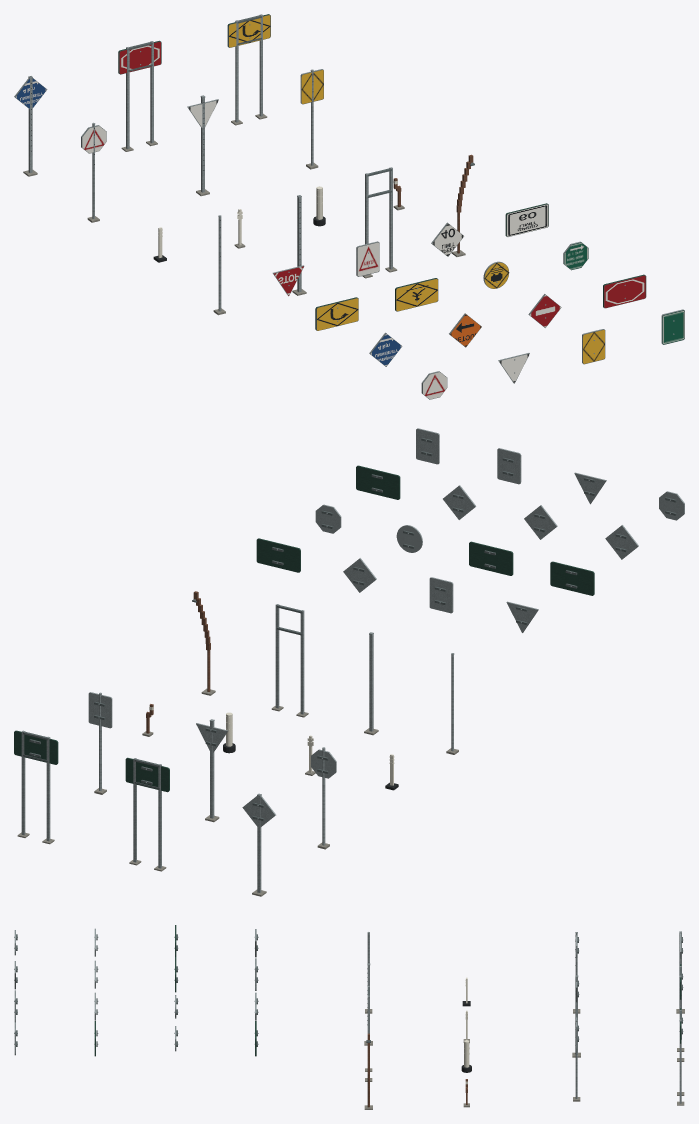
Rendered from PROJECT_Z_Road_Signs_and_Markers_Kit.glb.
3 renders of one model, top to bottom at view 1: azimuth 30°, elevation 25°; view 2: azimuth 150°, elevation 25°; view 3: azimuth 270°, elevation 25°, orthographic. The views are drawn at different scales.
Visible parts, largest first — view 1: PART_SIGNHEAD_NORTH_CAIRN_DIRECTION__FacePanel_SWAP_NORTH_CA, PART_SIGNHEAD_RAVENBROOK_UNIVERSITY__FacePanel_SWAP_RAVENBRO, PART_SIGNHEAD_BLANK_DIRECTION__FacePanel_SWAP_BLANK_DIRECTIO, PART_SIGNHEAD_DETOUR_LEFT__FacePanel_SWAP_DETOUR_LEFT, PART_ASSEMBLED_RAVENBROOK_UNIVERSITY__HEAD_FacePanel_SWAP_RA, PART_ASSEMBLED_NORTH_CAIRN_DIRECTION__HEAD_FacePanel_SWAP_NO, PART_ASSEMBLED_NORTH_CAIRN_DIRECTION__POST_StructuralPost, PART_ASSEMBLED_RAVENBROOK_UNIVERSITY__POST_StructuralPost, PART_SIGNHEAD_BLANK_SPEED__FacePanel_SWAP_BLANK_SPEED, PART_POST_TWIN_DIRECTION__StructuralPost, PART_SIGNHEAD_SPEED_60__FacePanel_SWAP_SPEED_60, PART_SIGNHEAD_SPEED_40__FacePanel_SWAP_SPEED_40 (+1 smaller); view 2: PART_SIGNHEAD_RAVENBROOK_UNIVERSITY__BackPlate_WIDE, PART_SIGNHEAD_BLANK_DIRECTION__BackPlate_WIDE, PART_SIGNHEAD_NORTH_CAIRN_DIRECTION__BackPlate_WIDE, PART_SIGNHEAD_DETOUR_LEFT__BackPlate_WIDE, PART_POST_TWIN_DIRECTION__StructuralPost, PART_ASSEMBLED_RAVENBROOK_UNIVERSITY__POST_StructuralPost, PART_ASSEMBLED_RAVENBROOK_UNIVERSITY__HEAD_BackPlate_WIDE, PART_ASSEMBLED_NORTH_CAIRN_DIRECTION__HEAD_BackPlate_WIDE, PART_ASSEMBLED_NORTH_CAIRN_DIRECTION__POST_StructuralPost, PART_SIGNHEAD_BLANK_SPEED__BackPlate_RECTANGLE, PART_SIGNHEAD_SPEED_40__BackPlate_RECTANGLE, PART_SIGNHEAD_SPEED_60__BackPlate_RECTANGLE (+1 smaller); view 3: no part large enough to name.
Part boxes in pixels (<box>): PART_SIGNHEAD_NORTH_CAIRN_DIRECTION__FacePanel_SWAP_NORTH_CA: <box>604,275,645,307</box>; PART_SIGNHEAD_RAVENBROOK_UNIVERSITY__FacePanel_SWAP_RAVENBRO: <box>317,298,358,330</box>; PART_SIGNHEAD_BLANK_DIRECTION__FacePanel_SWAP_BLANK_DIRECTIO: <box>507,204,548,236</box>; PART_SIGNHEAD_DETOUR_LEFT__FacePanel_SWAP_DETOUR_LEFT: <box>396,279,437,311</box>; PART_ASSEMBLED_RAVENBROOK_UNIVERSITY__HEAD_FacePanel_SWAP_RA: <box>229,15,270,47</box>; PART_ASSEMBLED_NORTH_CAIRN_DIRECTION__HEAD_FacePanel_SWAP_NO: <box>119,42,160,73</box>; PART_ASSEMBLED_NORTH_CAIRN_DIRECTION__POST_StructuralPost: <box>126,41,153,148</box>; PART_ASSEMBLED_RAVENBROOK_UNIVERSITY__POST_StructuralPost: <box>235,14,262,122</box>; PART_SIGNHEAD_BLANK_SPEED__FacePanel_SWAP_BLANK_SPEED: <box>357,242,379,276</box>; PART_POST_TWIN_DIRECTION__StructuralPost: <box>365,167,392,275</box>; PART_SIGNHEAD_SPEED_60__FacePanel_SWAP_SPEED_60: <box>662,310,684,344</box>; PART_SIGNHEAD_SPEED_40__FacePanel_SWAP_SPEED_40: <box>583,330,604,363</box>; PART_SIGNHEAD_RAVENBROOK_UNIVERSITY__BackPlate_WIDE: <box>550,561,594,595</box>; PART_SIGNHEAD_BLANK_DIRECTION__BackPlate_WIDE: <box>256,538,300,572</box>; PART_SIGNHEAD_NORTH_CAIRN_DIRECTION__BackPlate_WIDE: <box>356,465,400,499</box>; PART_SIGNHEAD_DETOUR_LEFT__BackPlate_WIDE: <box>469,541,513,575</box>; PART_POST_TWIN_DIRECTION__StructuralPost: <box>275,604,304,714</box>; PART_ASSEMBLED_RAVENBROOK_UNIVERSITY__POST_StructuralPost: <box>21,730,50,841</box>; PART_ASSEMBLED_RAVENBROOK_UNIVERSITY__HEAD_BackPlate_WIDE: <box>14,730,58,764</box>; PART_ASSEMBLED_NORTH_CAIRN_DIRECTION__HEAD_BackPlate_WIDE: <box>125,757,169,792</box>; PART_ASSEMBLED_NORTH_CAIRN_DIRECTION__POST_StructuralPost: <box>133,758,161,868</box>; PART_SIGNHEAD_BLANK_SPEED__BackPlate_RECTANGLE: <box>429,577,453,613</box>; PART_SIGNHEAD_SPEED_40__BackPlate_RECTANGLE: <box>497,448,521,484</box>; PART_SIGNHEAD_SPEED_60__BackPlate_RECTANGLE: <box>416,428,439,464</box>.
Bounding box in the file's own units: 9.01 × 3.15 × 22.59.
8 materials, 8 textured.
